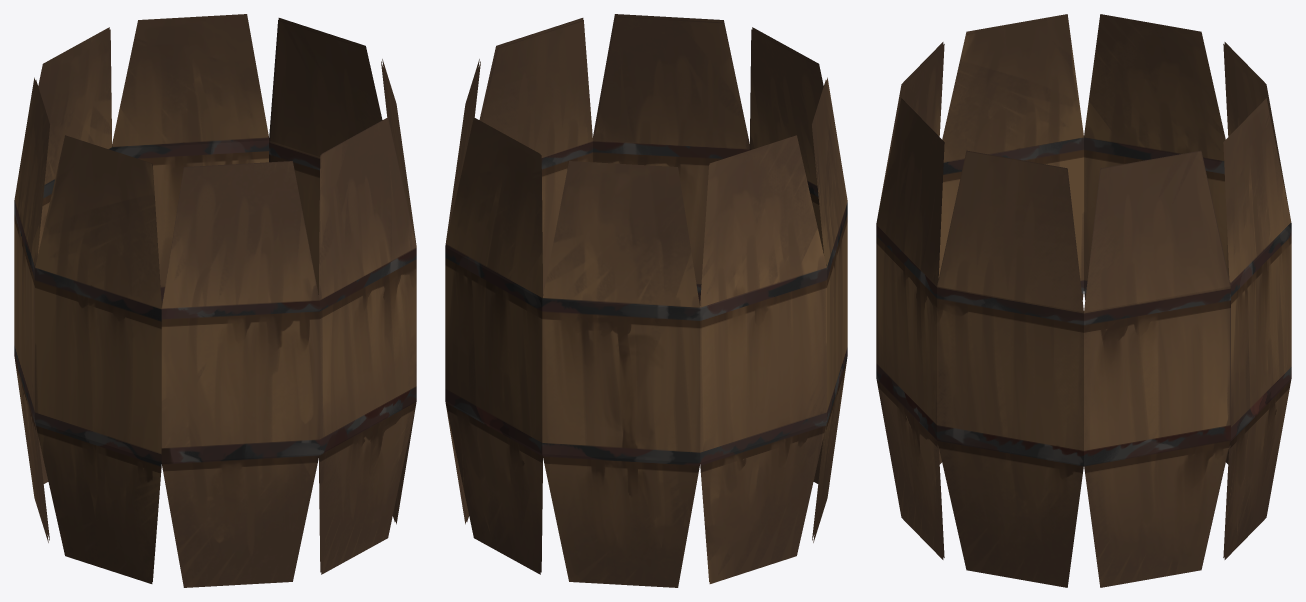
The model's file is Barrel04.fbx.
3 renders of one model, left to right at view 1: azimuth 30°, elevation 25°; view 2: azimuth 150°, elevation 25°; view 3: azimuth 270°, elevation 25°, orthographic.
Parts seen in each view (by area): view 1: Barrel04; view 2: Barrel04; view 3: Barrel04.
Boxes of the visible parts, x1,y1,x2,y2 form: Barrel04: (14, 14, 416, 587); Barrel04: (445, 14, 847, 587); Barrel04: (876, 14, 1291, 587).
Bounding box in the file's own units: 1.06 × 1.18 × 1.06.
1 material, 1 textured.
